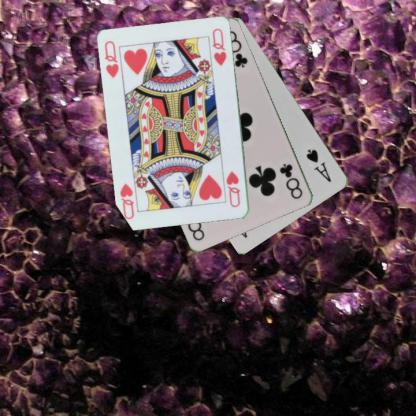8c: (277, 160, 304, 200)
As: (304, 146, 333, 184)
Qh: (223, 169, 242, 209), (102, 38, 120, 79)
